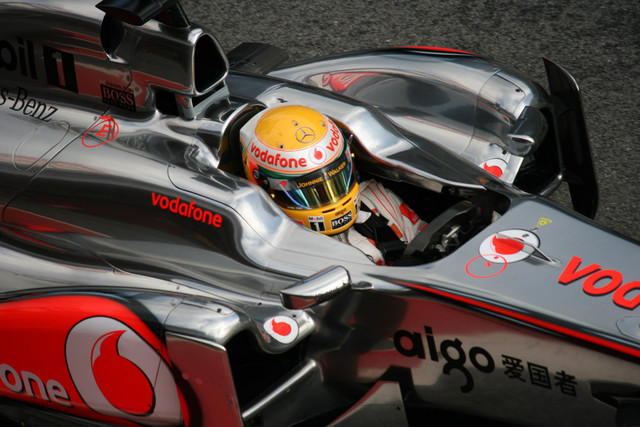helmet: (233, 111, 363, 237)
